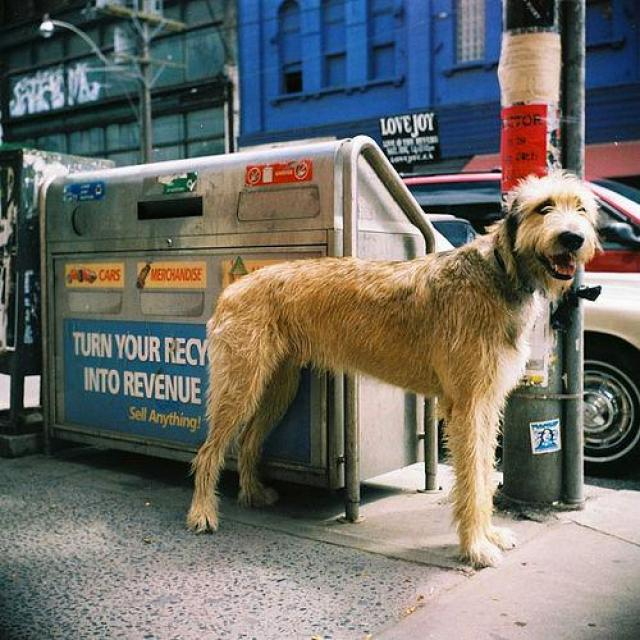irish_wolfhound: (185, 160, 606, 570)
